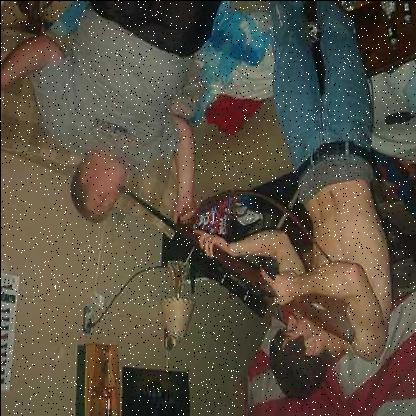rifle: (109, 169, 366, 357)
